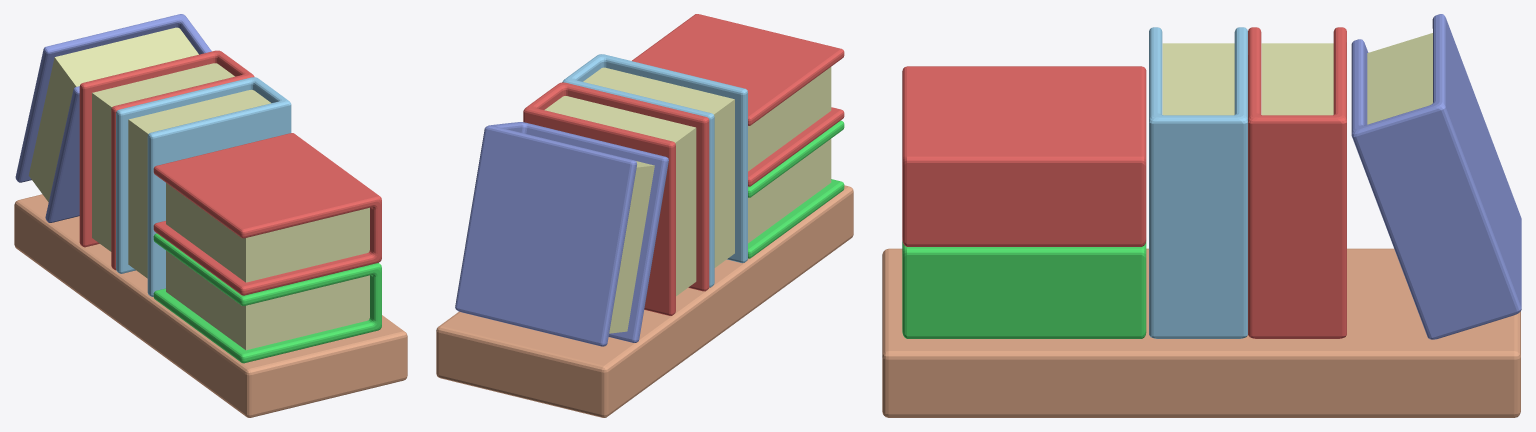
The model's file is book_shelf.glb.
3 renders of one model, left to right at view 1: azimuth 30°, elevation 25°; view 2: azimuth 150°, elevation 25°; view 3: azimuth 270°, elevation 25°, orthographic. The views are drawn at different scales.
Visible parts, largest first — view 1: Shelf, Book5, Book2, Book5_Pages, Book1_Pages, Book4_Pages, Book4, Book1, Book3, Book2_Pages, Book3_Pages; view 2: Book4, Shelf, Book5, Book3, Book2, Book3_Pages, Book2_Pages, Book1_Pages, Book5_Pages, Book4_Pages, Book1; view 3: Shelf, Book5, Book4, Book2, Book3, Book1, Book2_Pages, Book3_Pages, Book4_Pages.
Part boxes in pixels (x1,y1,x2,y2): Shelf: (14, 194, 407, 417); Book5: (153, 133, 381, 295); Book2: (116, 77, 291, 296); Book5_Pages: (166, 183, 369, 282); Book1_Pages: (166, 250, 369, 350); Book4_Pages: (28, 27, 198, 201); Book4: (15, 14, 211, 222); Book1: (153, 233, 381, 363); Book3: (79, 50, 254, 270); Book2_Pages: (128, 89, 271, 278); Book3_Pages: (92, 63, 234, 251); Book4: (455, 122, 668, 346); Shelf: (436, 185, 853, 417); Book5: (632, 14, 844, 186); Book3: (523, 82, 709, 315); Book2: (562, 54, 747, 287); Book3_Pages: (544, 96, 696, 296); Book2_Pages: (583, 67, 734, 267); Book1_Pages: (748, 139, 831, 243); Book5_Pages: (748, 67, 831, 171); Book4_Pages: (609, 161, 654, 333); Book1: (748, 120, 844, 258); Shelf: (882, 248, 1520, 417); Book5: (902, 66, 1146, 246); Book4: (1351, 14, 1521, 339); Book2: (1149, 27, 1247, 338); Book3: (1248, 27, 1346, 338); Book1: (902, 241, 1146, 338); Book2_Pages: (1162, 43, 1234, 115); Book3_Pages: (1261, 43, 1333, 115); Book4_Pages: (1367, 33, 1432, 124).
Size of the model in its own units: 2.08 by 2.73 by 5.24.
